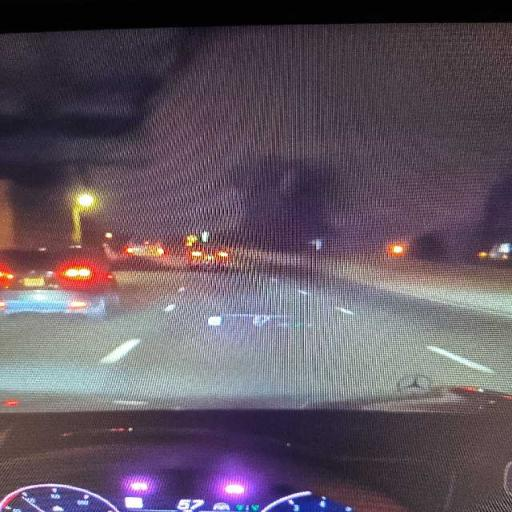car: (0, 250, 119, 318), (187, 244, 231, 268), (123, 241, 166, 258)
lane: (0, 272, 511, 405)
